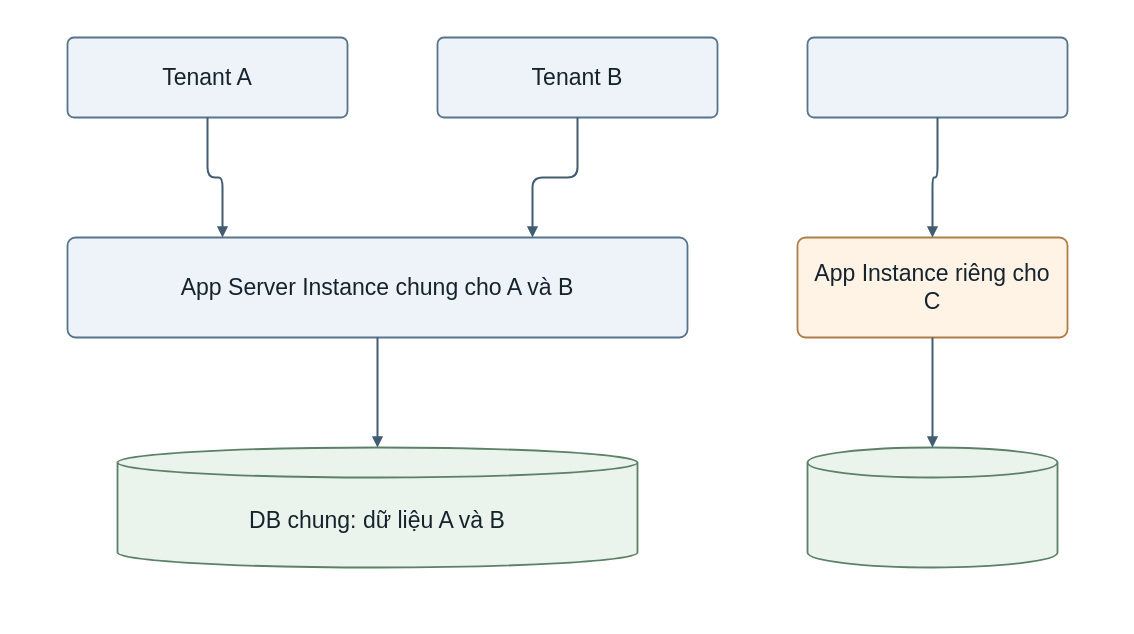
The diagram is 1134 pixels wide and 634 high, and some of its shapes have lost their labels. Each missing label, with the centre of its shape:
DB C: [932,507]
Tenant C: [937,77]
